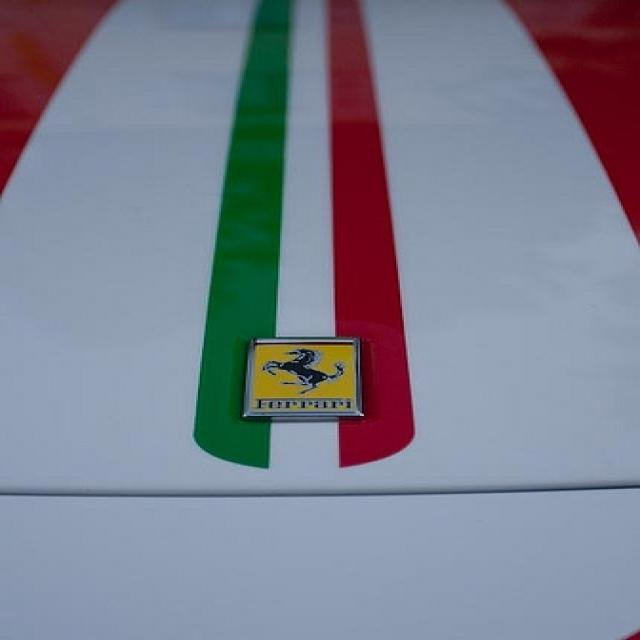ferrari: (249, 339, 361, 417)
